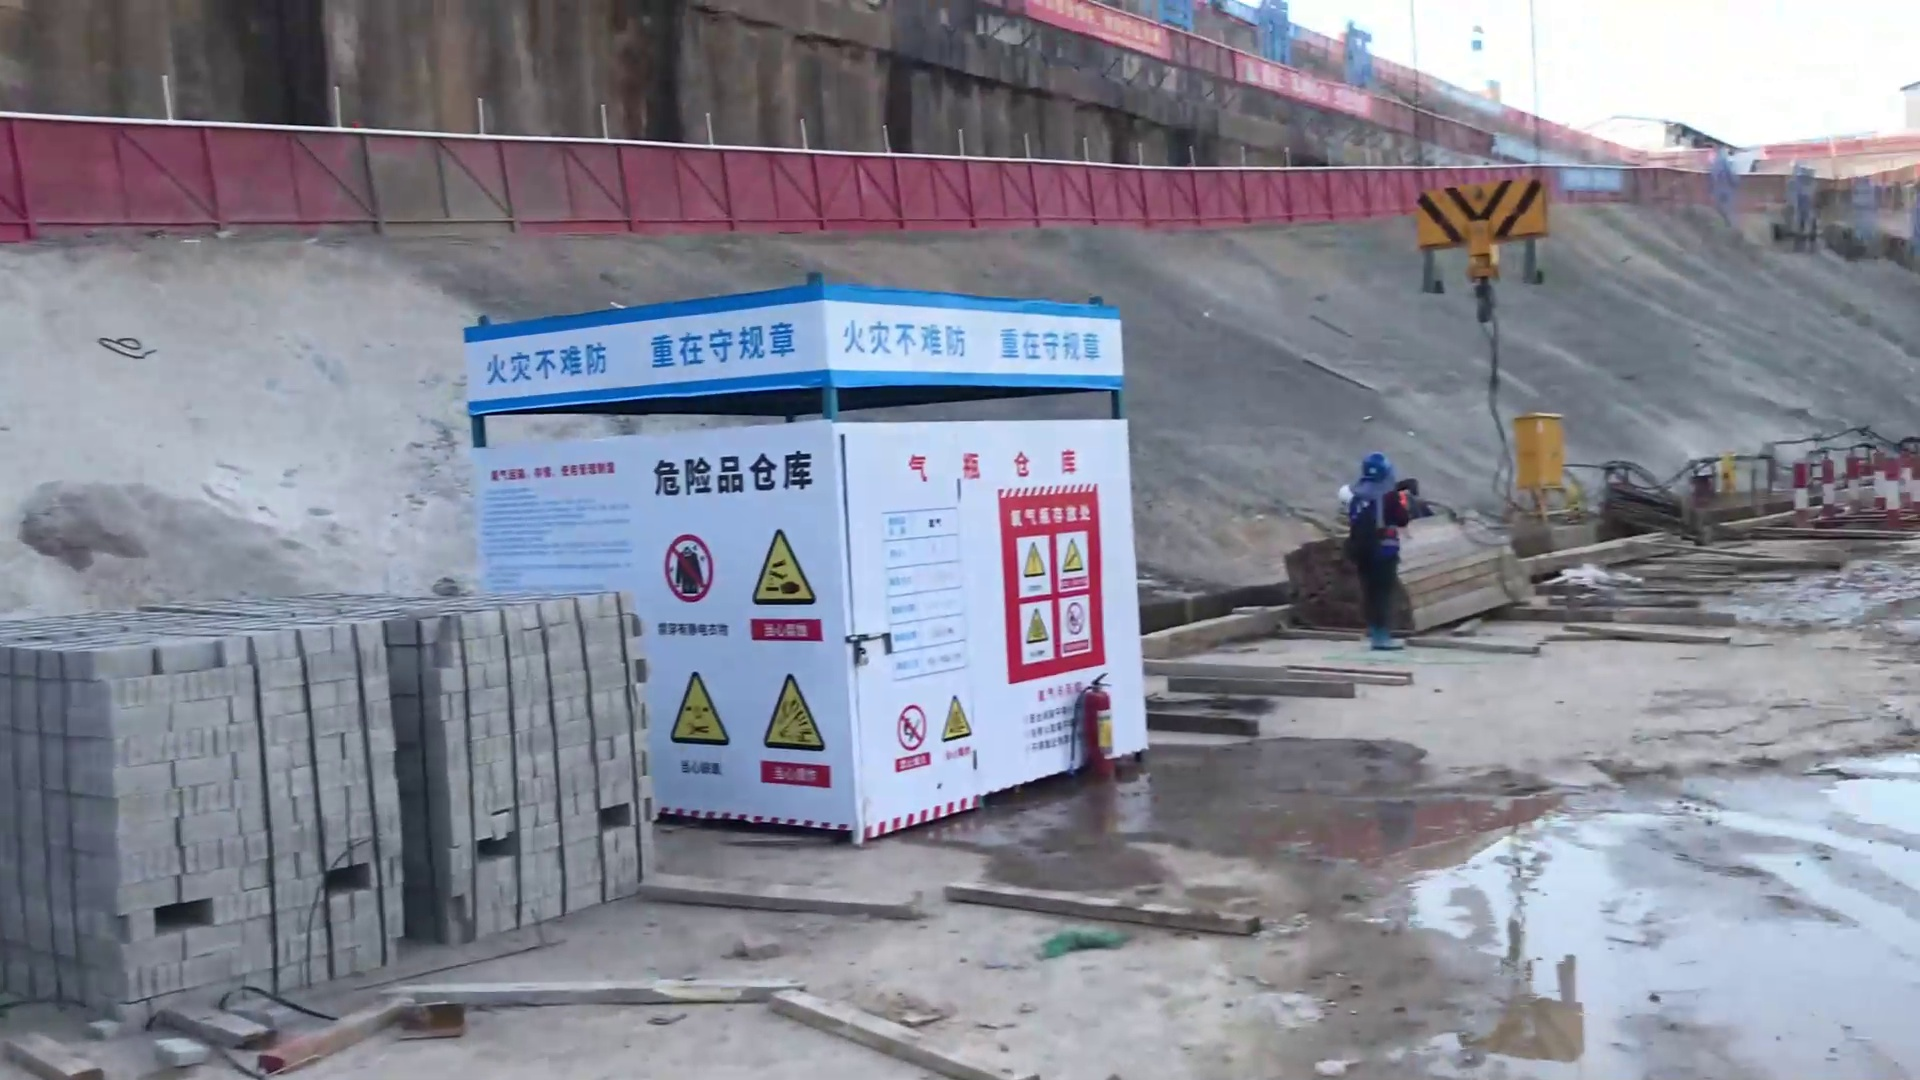brick: (4, 594, 707, 990)
ebox: (1488, 393, 1595, 500)
fence: (1, 120, 1325, 249)
helmet: (1353, 457, 1400, 502)
hook: (1400, 155, 1606, 339)
person: (1337, 446, 1411, 658)
slogan: (608, 433, 859, 811), (459, 296, 818, 396), (984, 474, 1132, 698), (819, 283, 1115, 394), (867, 675, 988, 787)
vest: (1350, 499, 1395, 569)
wood: (1417, 518, 1533, 627)
